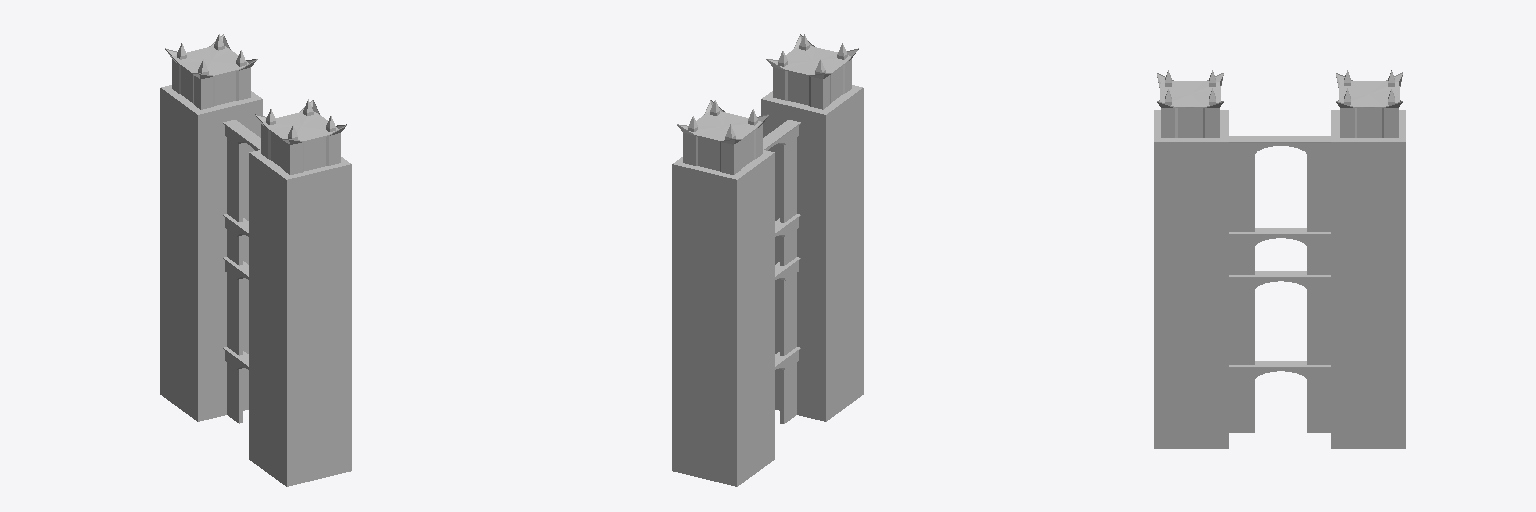
The model's file is Gotham_Skyline_BuildingBlock07.obj.
3 renders of one model, left to right at view 1: azimuth 30°, elevation 25°; view 2: azimuth 150°, elevation 25°; view 3: azimuth 270°, elevation 25°, orthographic.
Parts seen in each view (by area): view 1: 7_Gotham-Skyline-BuildingBlock07; view 2: 7_Gotham-Skyline-BuildingBlock07; view 3: 7_Gotham-Skyline-BuildingBlock07.
Boxes of the visible parts, x1,y1,x2,y2 form: 7_Gotham-Skyline-BuildingBlock07: [160, 34, 351, 486]; 7_Gotham-Skyline-BuildingBlock07: [672, 34, 863, 486]; 7_Gotham-Skyline-BuildingBlock07: [1154, 70, 1405, 448].
Bounding box in the file's own units: 7112 × 37101 × 23982.